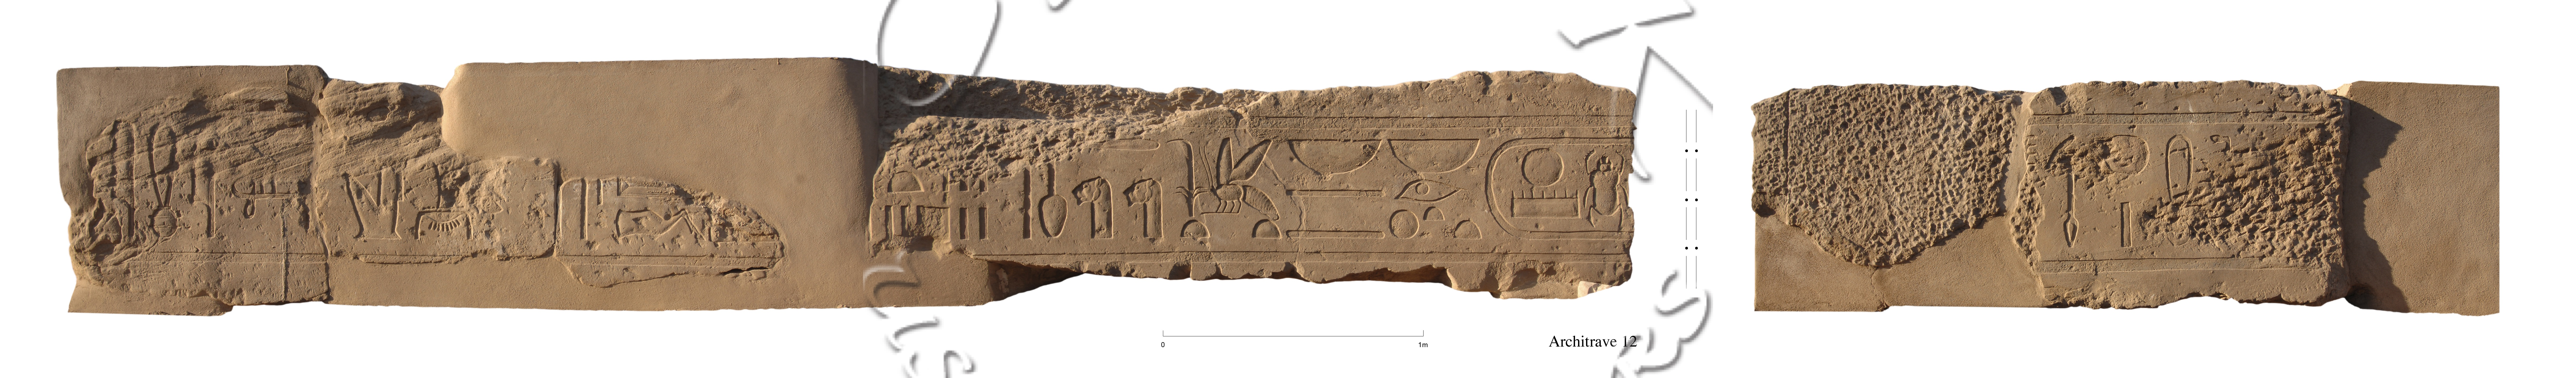D4: (1387, 176, 1472, 205)
F35: (1028, 135, 1073, 243)
M17: (105, 115, 148, 248)
V30: (1281, 133, 1383, 179), (1385, 133, 1483, 176)
